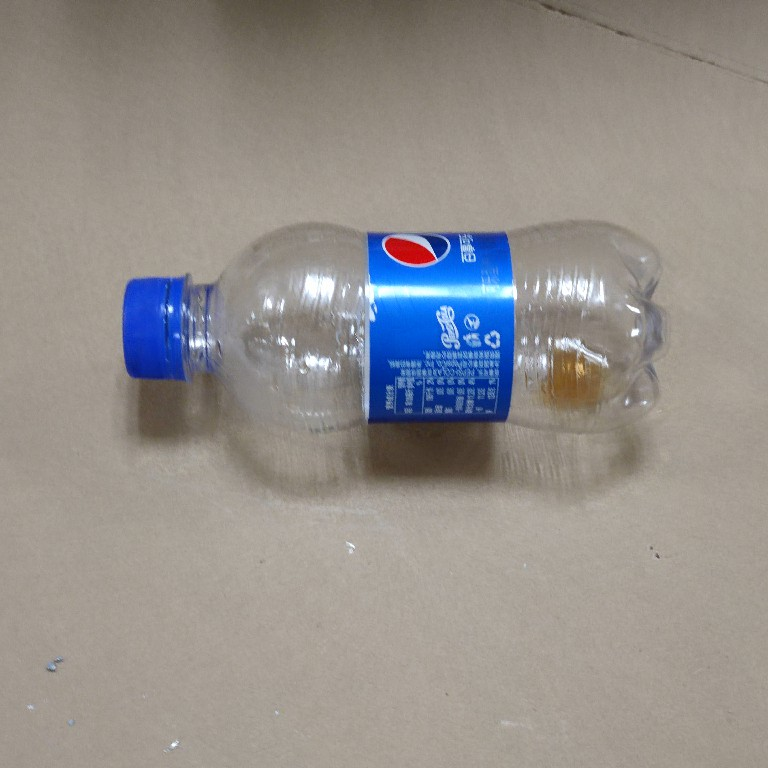bottle: (120, 213, 674, 443)
